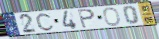0: (122, 5, 141, 25)
2: (19, 13, 38, 34)
4: (62, 10, 78, 31)
C: (35, 12, 56, 32)
O: (103, 7, 123, 27)
P: (77, 8, 97, 29)
